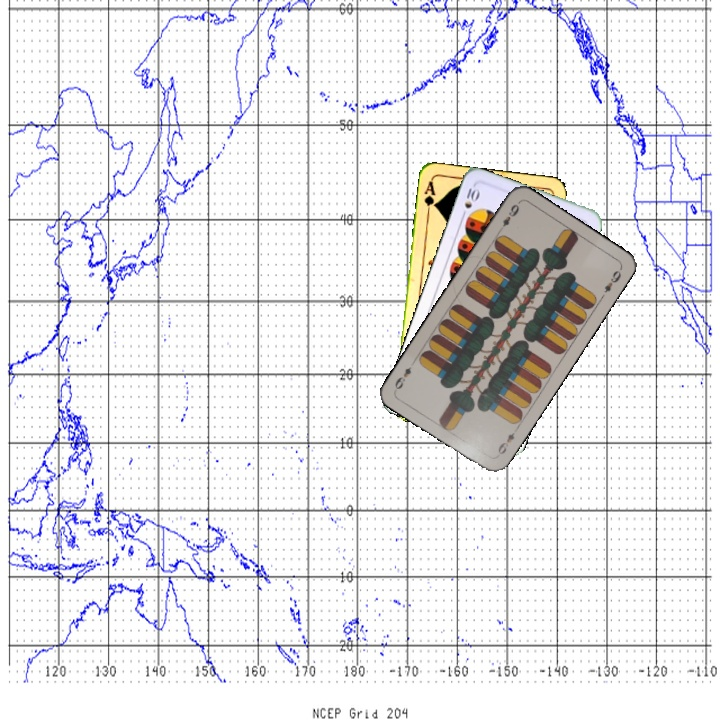E9: (495, 198, 522, 235), (494, 423, 520, 457)
GA: (420, 177, 439, 217)
S10: (457, 183, 482, 221)
